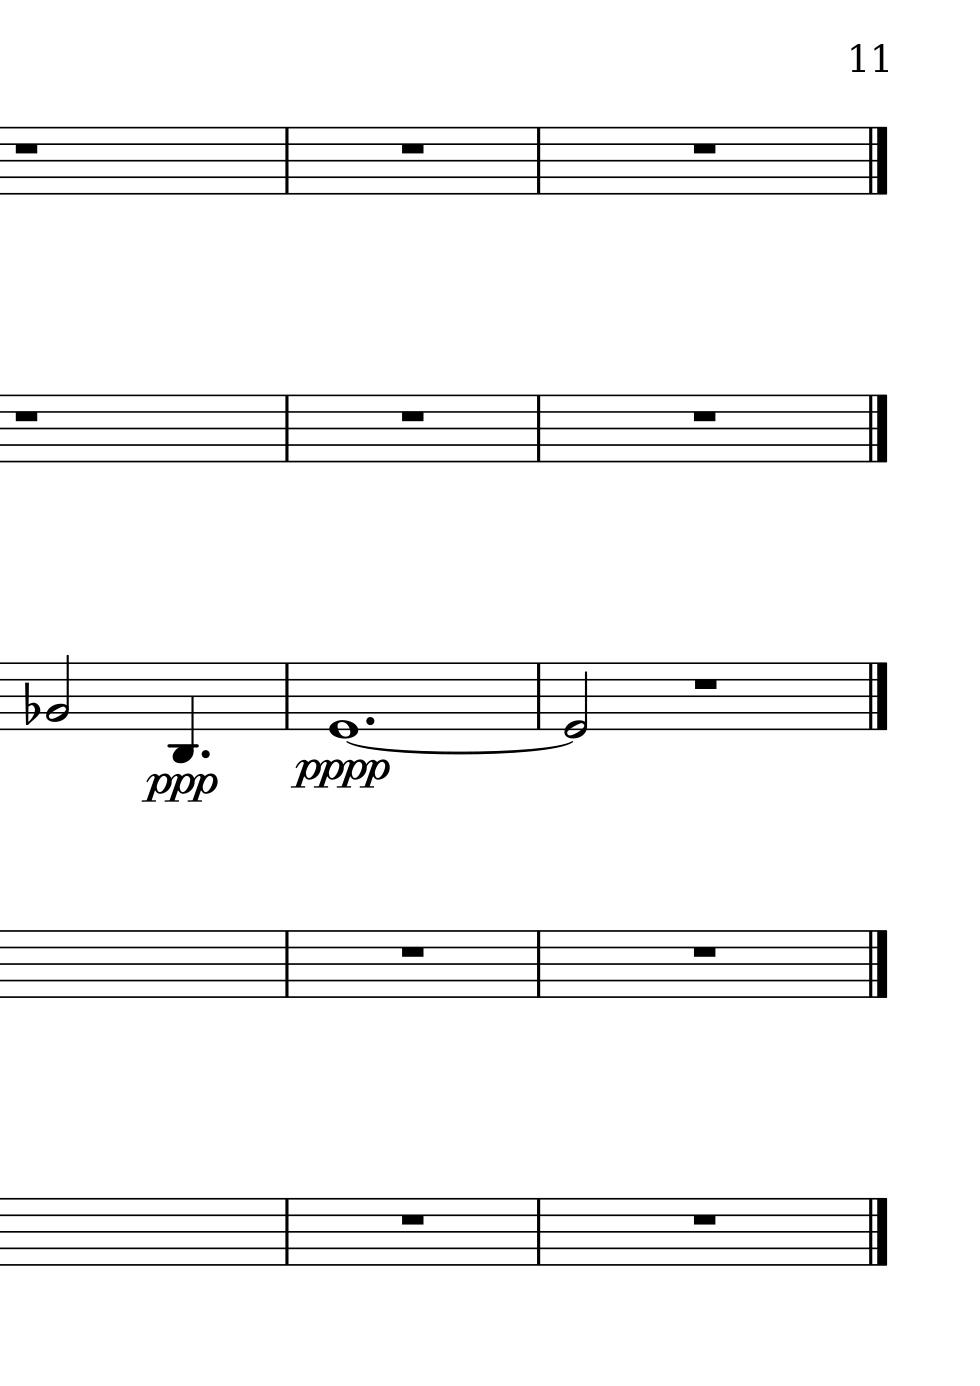1: (870, 42, 890, 75), (848, 41, 867, 75)
1_0: (327, 657, 358, 741)
2_0: (561, 660, 590, 740)
2_2: (43, 653, 71, 732)
4_-3: (168, 659, 196, 767)
Final_barline: (862, 125, 891, 196), (862, 1196, 891, 1266), (862, 929, 891, 998), (862, 393, 890, 463), (862, 662, 890, 730)
Flat: (21, 680, 40, 726)
Rests1: (11, 406, 42, 426), (10, 139, 42, 158), (688, 407, 720, 426), (689, 1210, 720, 1229), (397, 139, 428, 157), (397, 407, 428, 425), (689, 676, 721, 694), (397, 943, 428, 961), (397, 1210, 428, 1228), (689, 943, 720, 961), (689, 139, 719, 157)
Single_barline: (278, 127, 295, 195), (278, 394, 295, 462), (278, 931, 295, 998), (278, 1199, 295, 1266), (530, 127, 546, 195), (530, 394, 546, 462), (530, 931, 546, 998), (530, 1199, 546, 1266), (279, 663, 294, 730), (531, 664, 546, 729)
Slur: (346, 740, 570, 756)
dot: (363, 712, 377, 729), (199, 747, 213, 762)
ppp: (138, 772, 221, 805)
pppp: (288, 755, 391, 791)
